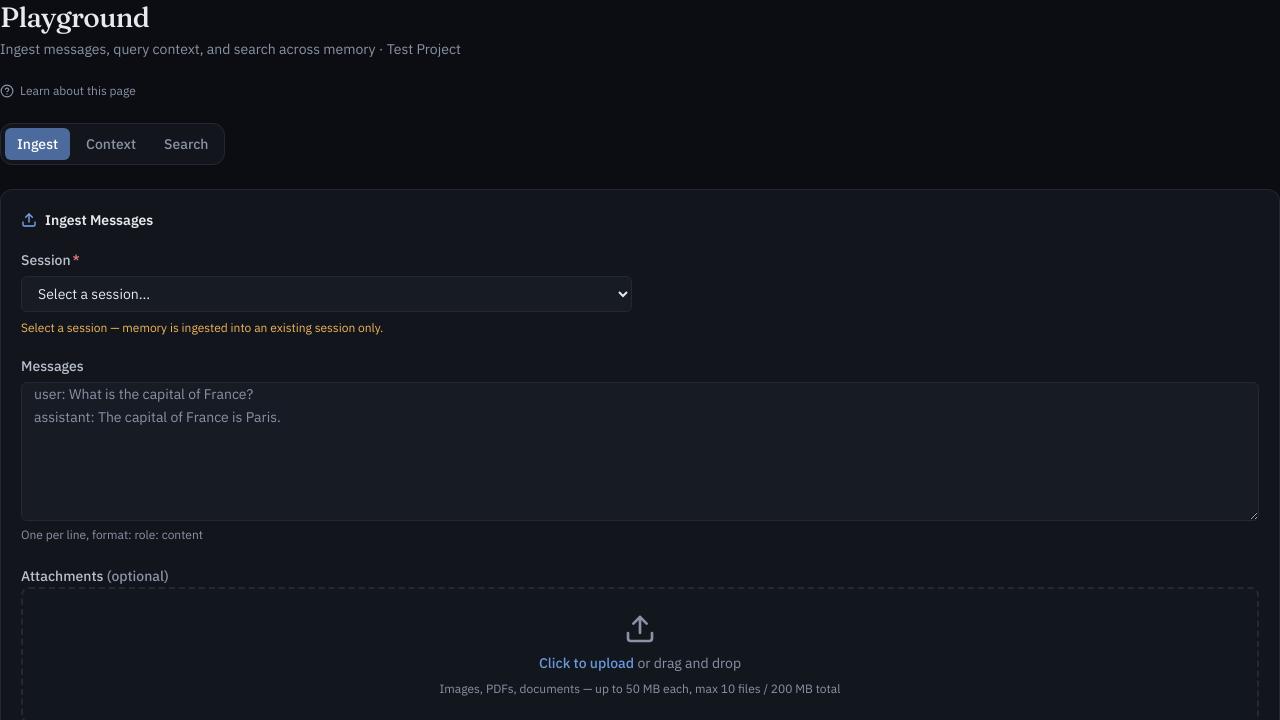
Scenario: PlaygroundPage Ingest › uploads messages via uploadWithBlobs and wires EnrichmentStatus on successful ingest
Type "user: Hello there" into the text box with placeholder "user: What is the capital".
click(640, 451); type("user: Hello there")  # box [21,382,1259,520]
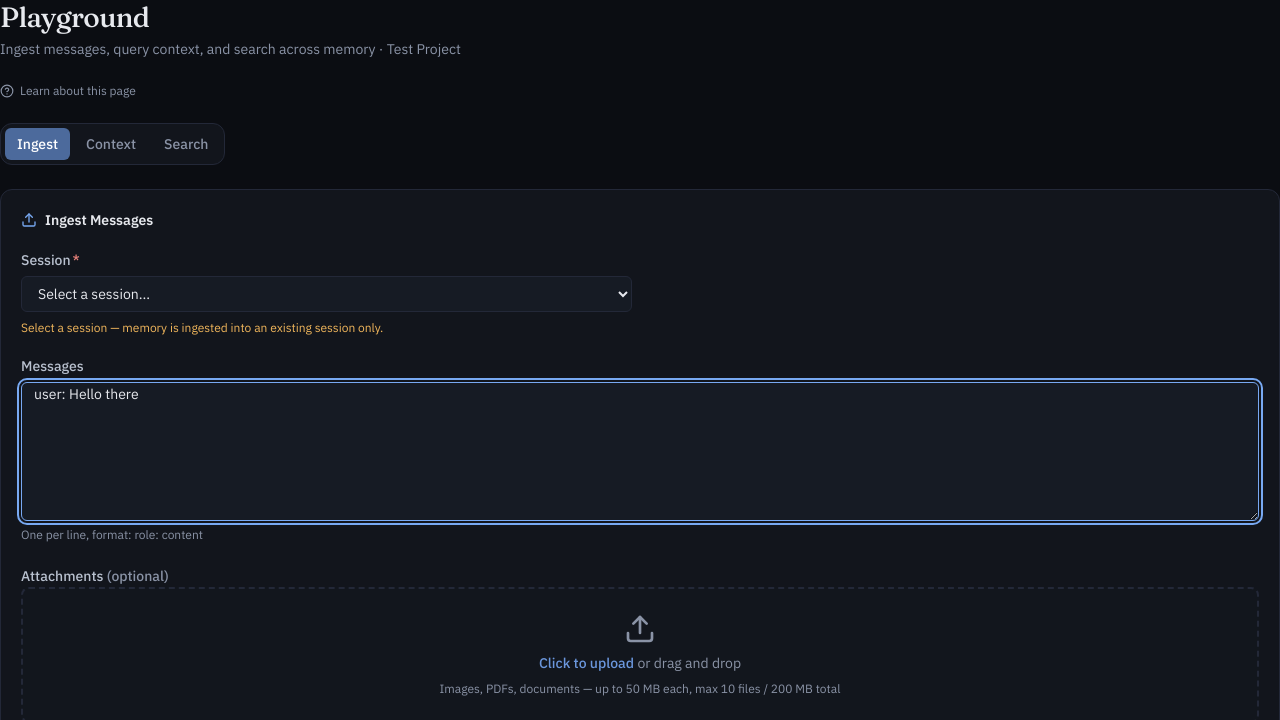
Select "session-1" in the dropdown labelled "Session*" at (326, 294), box [21,276,632,312]
(page scrolled)
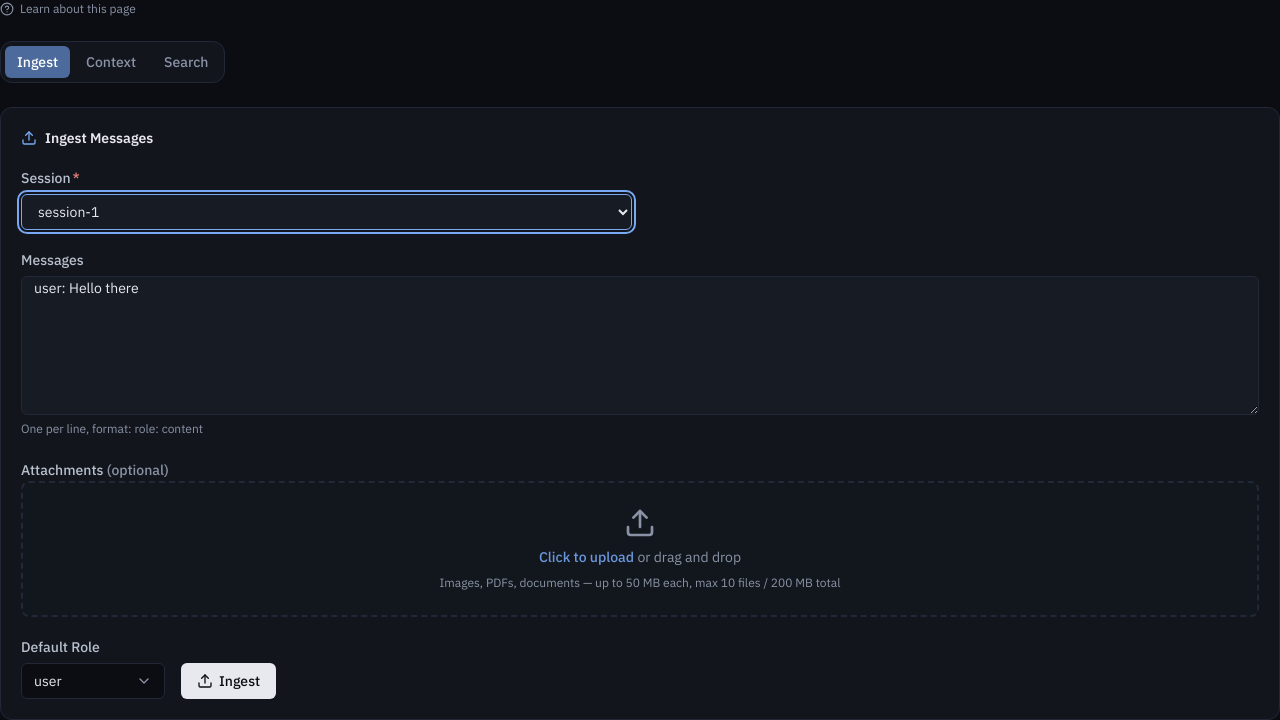
Click the button "Ingest".
click(229, 680)  # box [181,662,276,698]
(page scrolled)
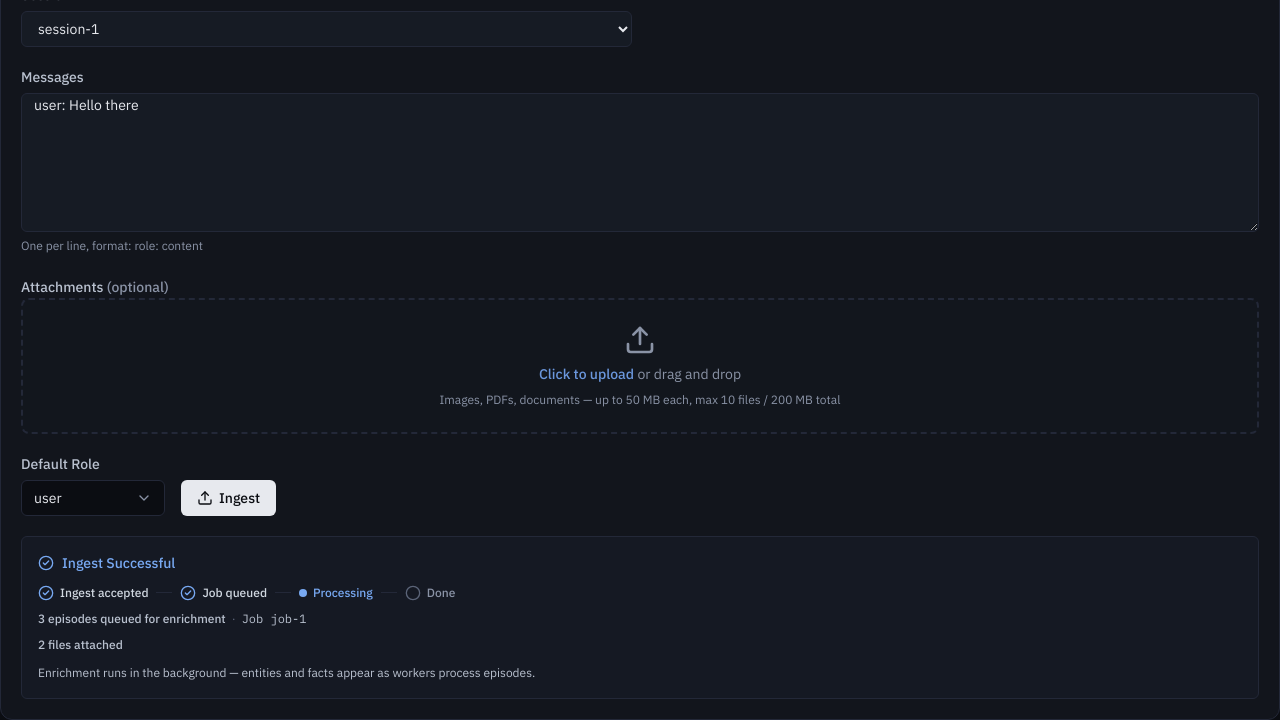
Expected: the text "3 episodes queued for enrichment" is shown, [38,610,226,626]
Expected: the text "2 files attached" is shown, [38,636,123,652]
Expected: the text "Job job-1" is shown, [242,610,306,626]
